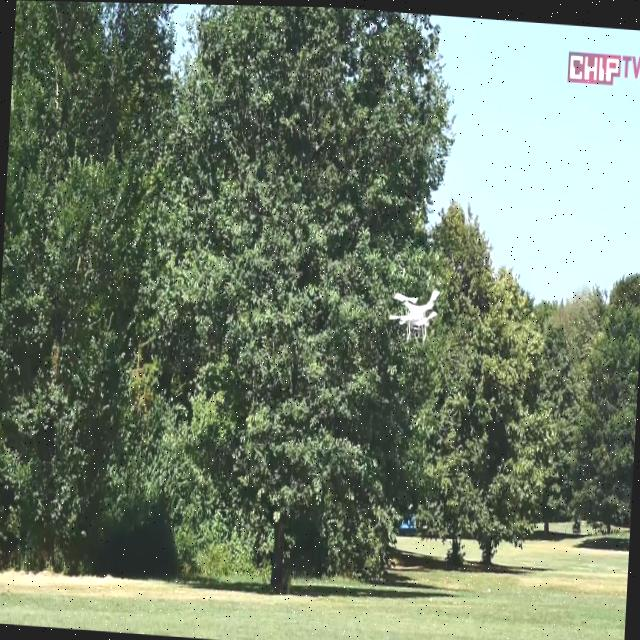drone: (390, 281, 440, 342)
